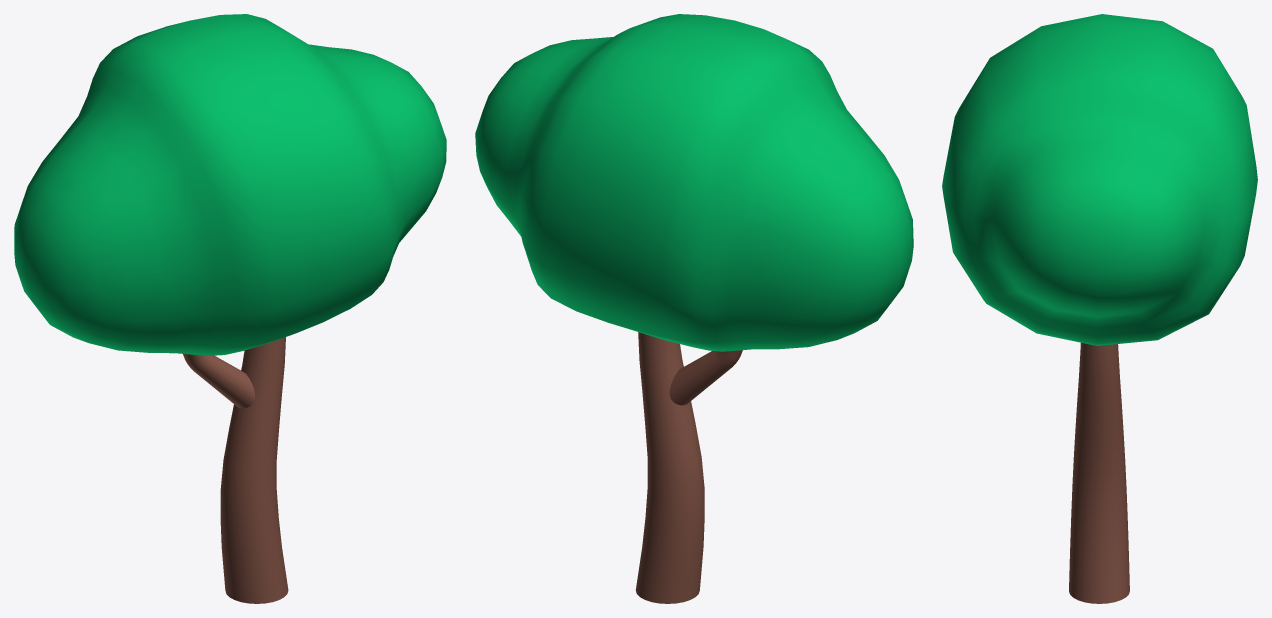
Rendered from City_2_Tree_1.glb.
3 renders of one model, left to right at view 1: azimuth 30°, elevation 25°; view 2: azimuth 150°, elevation 25°; view 3: azimuth 270°, elevation 25°, orthographic. The views are drawn at different scales.
Parts seen in each view (by area): view 1: City_2_Tree_1; view 2: City_2_Tree_1; view 3: City_2_Tree_1.
Part boxes in pixels (bbox=[...]): City_2_Tree_1: bbox=[14, 14, 446, 603]; City_2_Tree_1: bbox=[475, 14, 913, 603]; City_2_Tree_1: bbox=[942, 14, 1257, 603].
Size of the model in its own units: 4.17 by 5.55 by 2.94.
Materials: 1 (1 with a texture image).
